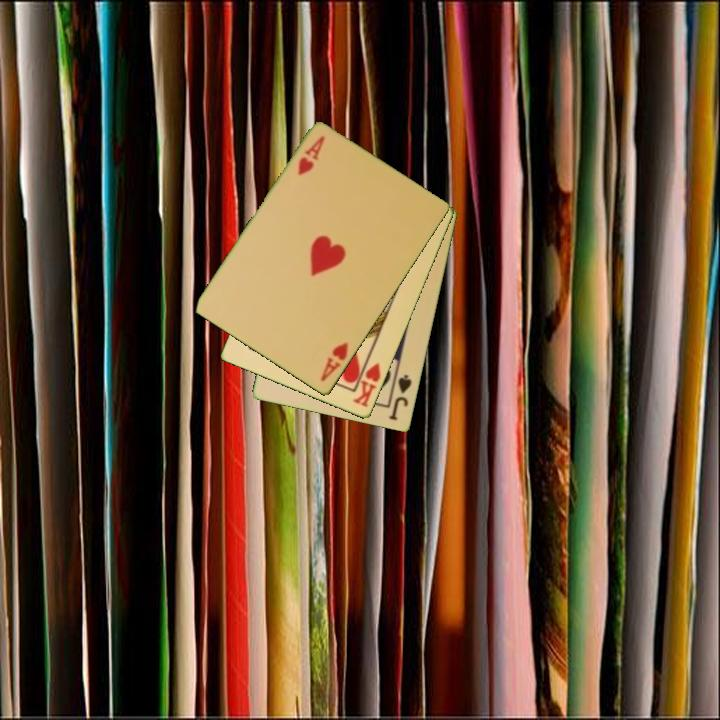Ah: (317, 339, 351, 385), (294, 133, 328, 179)
Js: (386, 371, 415, 424)
Kh: (350, 353, 384, 411)
